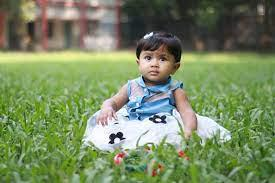child: (80, 27, 235, 157)
